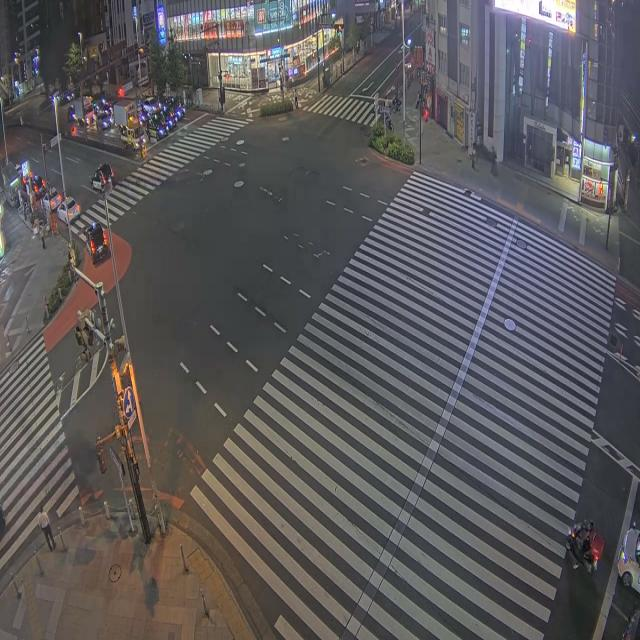car: (617, 524, 639, 591), (85, 223, 108, 263), (22, 172, 46, 199), (57, 197, 80, 223), (92, 164, 114, 191), (622, 605, 639, 639), (42, 187, 62, 212), (146, 117, 167, 139), (166, 96, 185, 119), (160, 104, 177, 129), (96, 112, 114, 129), (141, 98, 159, 113), (0, 504, 6, 539), (67, 104, 75, 122)
motorcycle: (566, 521, 603, 574)
truck: (70, 97, 94, 124), (114, 100, 135, 127)
